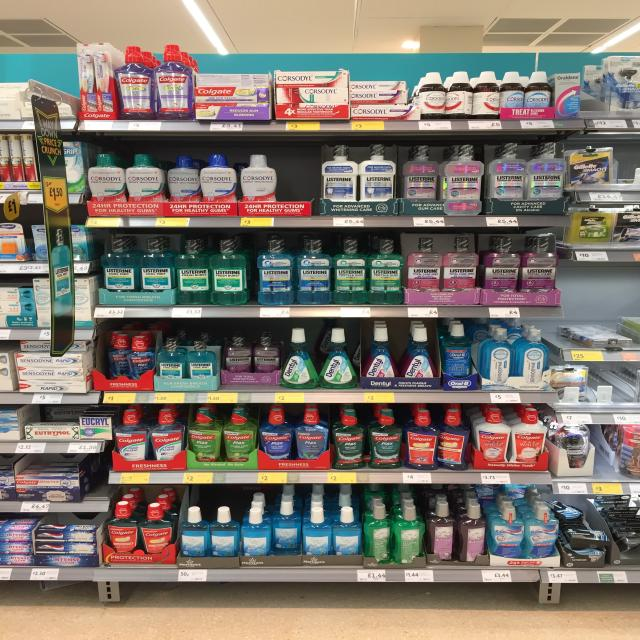void: (284, 142, 316, 216)
